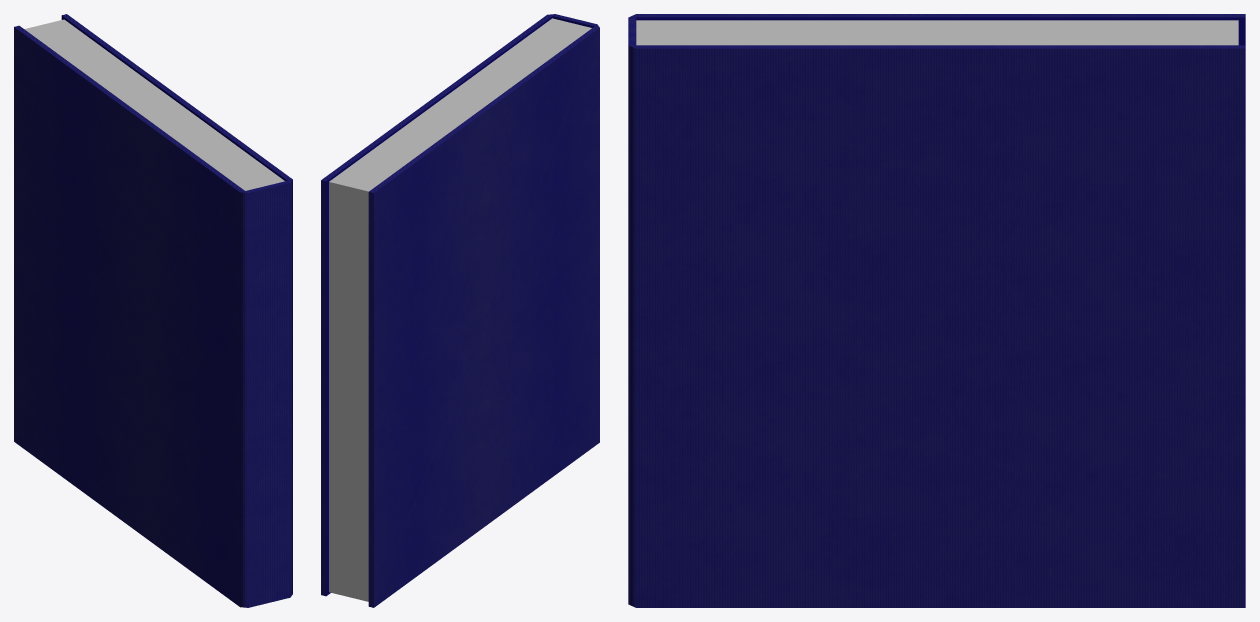
File: Libro_Bv2 1.fbx
The picture shows the model from 3 angles, left to right: view 1: azimuth 30°, elevation 25°; view 2: azimuth 150°, elevation 25°; view 3: azimuth 270°, elevation 25°; orthographic projection. The views are drawn at different scales.
Parts seen in each view (by area): view 1: Libro_B_geo, Hoja_B; view 2: Libro_B_geo, Hoja_B; view 3: Libro_B_geo, Hoja_B.
Part boxes in pixels (x1,y1,x2,y2): Libro_B_geo: (14, 14, 292, 607); Hoja_B: (24, 19, 284, 190); Libro_B_geo: (321, 14, 599, 607); Hoja_B: (329, 18, 591, 601); Libro_B_geo: (628, 14, 1245, 607); Hoja_B: (636, 20, 1238, 45).
Size of the model in its own units: 3.13 by 23.5 by 23.5.
1 material, 1 textured.
